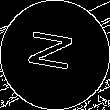N_E: (27, 31, 83, 79)
